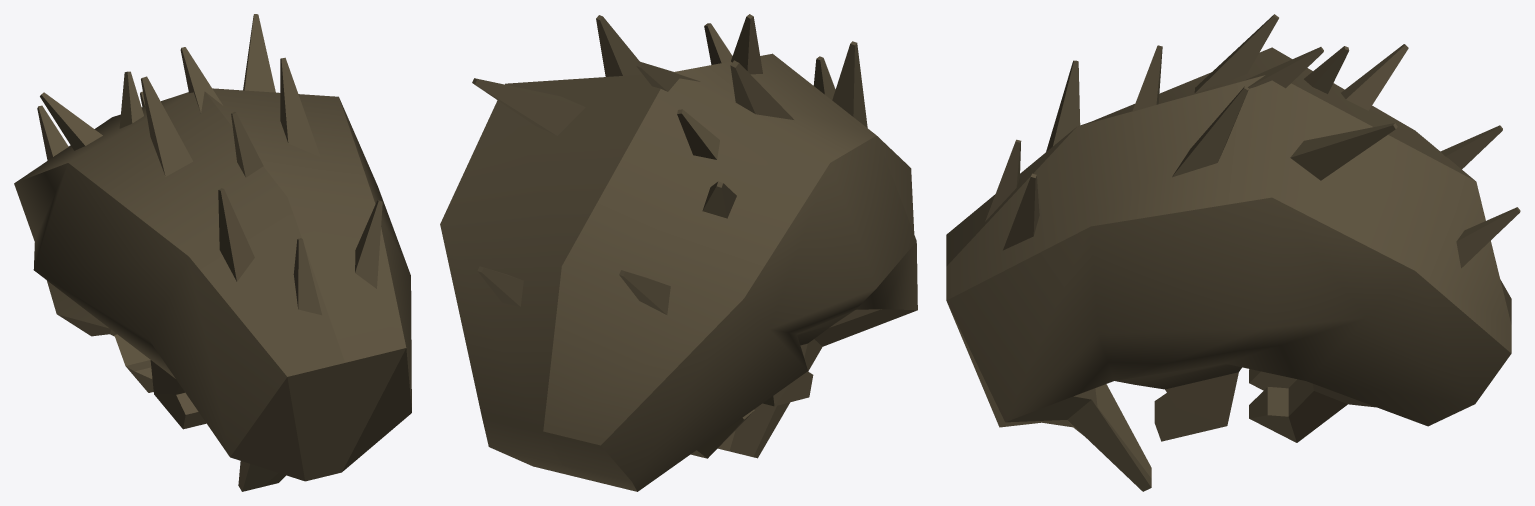
The model's file is Echidna.fbx.
3 views of the same model, side by side, from view 1: azimuth 30°, elevation 25°; view 2: azimuth 150°, elevation 25°; view 3: azimuth 270°, elevation 25° (orthographic). The views are drawn at different scales.
Parts seen in each view (by area): view 1: pCube16; view 2: pCube16; view 3: pCube16.
Boxes of the visible parts, x1,y1,x2,y2 form: pCube16: (14,14,411,491); pCube16: (440,14,917,491); pCube16: (946,14,1520,491).
Bounding box in the file's own units: 10 × 10.62 × 12.71.
